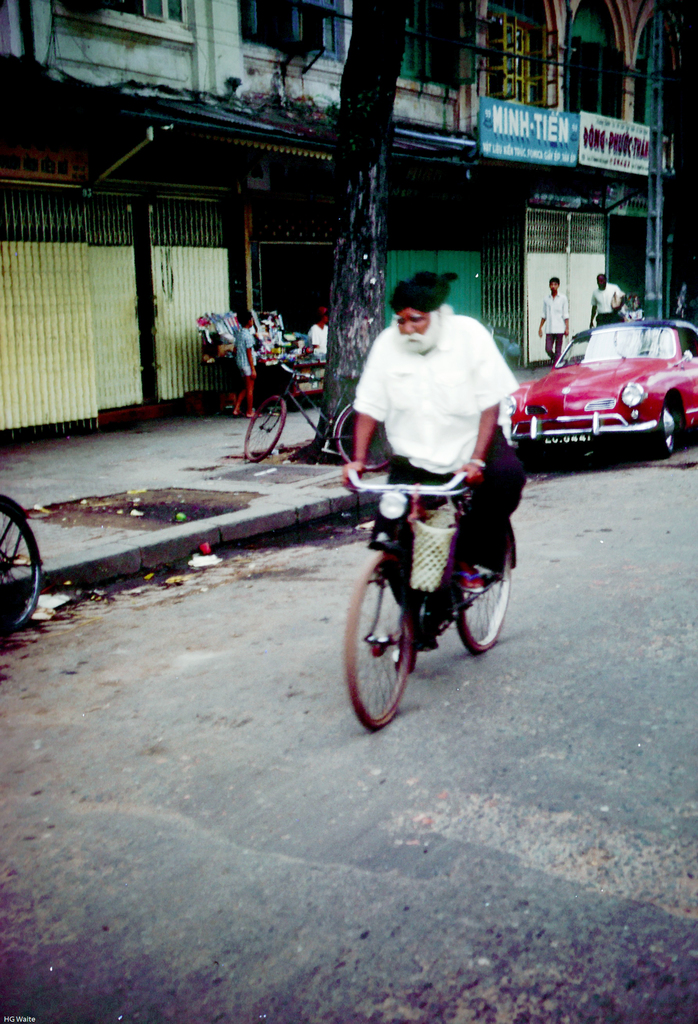Bike: (341, 453, 522, 734)
